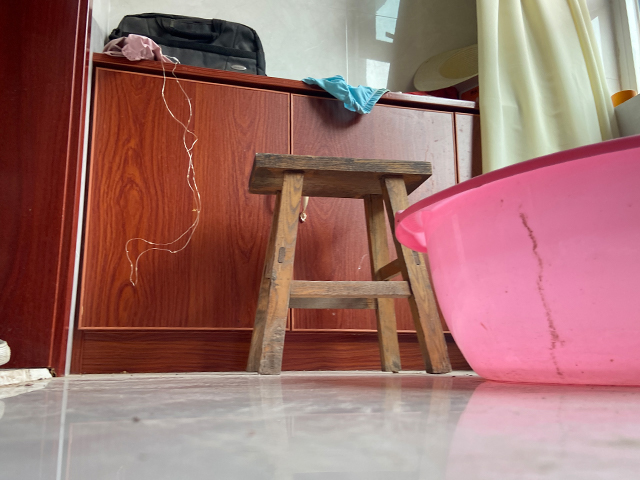cabinet: (68, 52, 482, 375)
stool: (243, 151, 454, 374)
